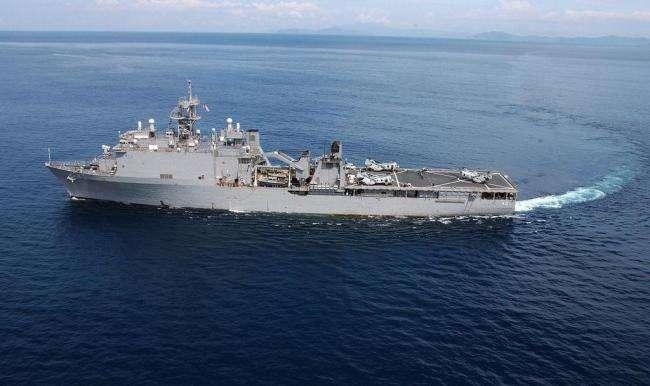warship: (39, 84, 533, 207)
